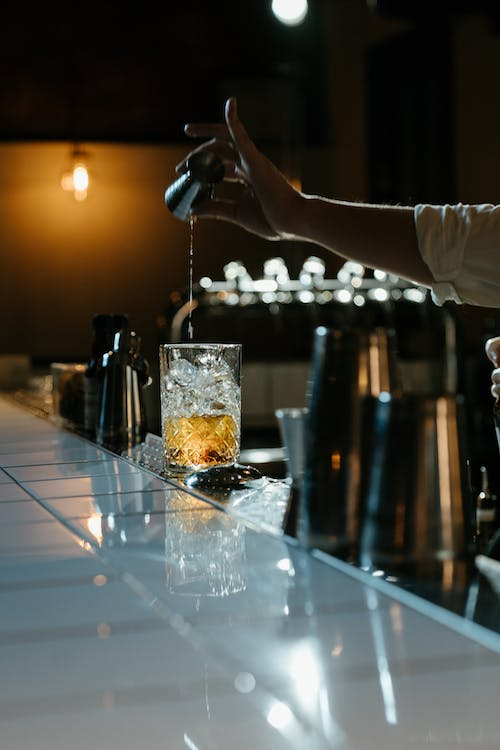alcohol: (156, 339, 245, 480)
